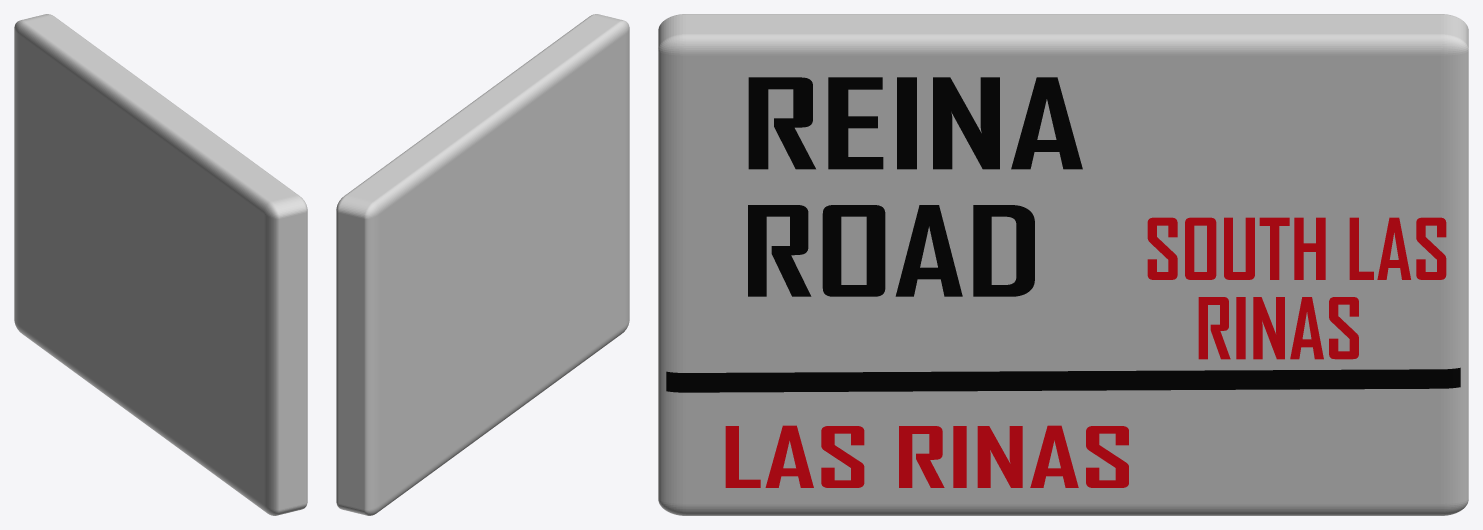
Rendered from las_rinas_street_name_2.fbx.
3 views of the same model, side by side, from view 1: azimuth 30°, elevation 25°; view 2: azimuth 150°, elevation 25°; view 3: azimuth 270°, elevation 25° (orthographic). The views are drawn at different scales.
Visible parts, largest first — view 1: Cube; view 2: Cube; view 3: Cube, Text, Text.001, Text.002, Text.003, Text.004.
Part boxes in pixels (x1=…): Cube: x1=14, y1=14, x2=307, y2=515; Cube: x1=336, y1=14, x2=629, y2=515; Cube: x1=658, y1=14, x2=1468, y2=515; Text: x1=748, y1=77, x2=1082, y2=169; Text.001: x1=748, y1=205, x2=1034, y2=296; Text.002: x1=725, y1=425, x2=1128, y2=487; Text.003: x1=1147, y1=217, x2=1446, y2=279; Text.004: x1=1198, y1=297, x2=1358, y2=359.
Size of the model in its own units: 1.63 by 11.91 by 18.18.
